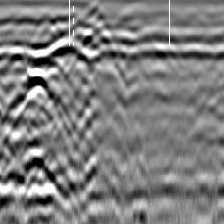Utility: (0, 146, 75, 220), (0, 67, 81, 125)
